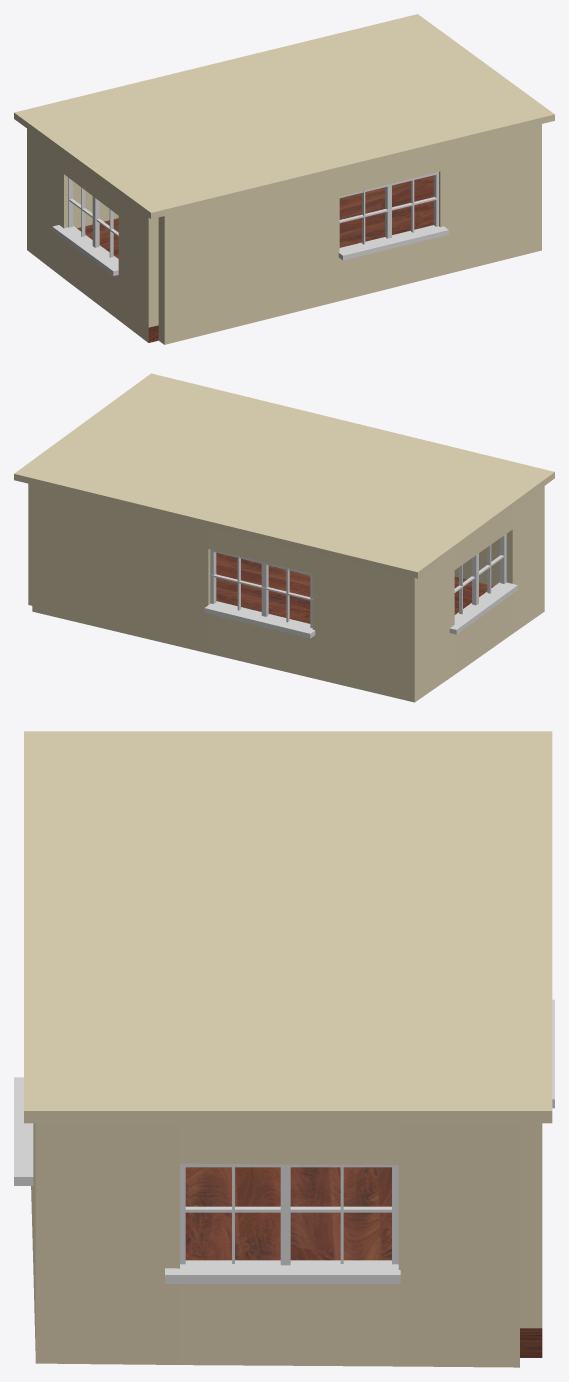
File: simple-room_02.glb
The picture shows the model from 3 angles, top to bottom: view 1: azimuth 30°, elevation 25°; view 2: azimuth 150°, elevation 25°; view 3: azimuth 270°, elevation 25°; orthographic projection. The views are drawn at different scales.
Visible parts, largest first — view 1: Cube, Cube.010, Cube.006; view 2: Cube.006, Cube, Cube.010; view 3: Cube, Cube.010, Cube.006.
Boxes of the visible parts, left/top/right/bottom form: Cube: left=14, top=14, right=554, bottom=219; Cube.010: left=158, top=124, right=541, bottom=344; Cube.006: left=27, top=128, right=433, bottom=342; Cube.006: left=32, top=484, right=544, bottom=702; Cube: left=14, top=373, right=554, bottom=578; Cube.010: left=28, top=483, right=499, bottom=605; Cube: left=24, top=731, right=552, bottom=1123; Cube.010: left=14, top=1077, right=519, bottom=1367; Cube.006: left=185, top=999, right=554, bottom=1357.
Size of the model in its own units: 55.05 by 17.69 by 33.13.
4 materials, 1 textured.
